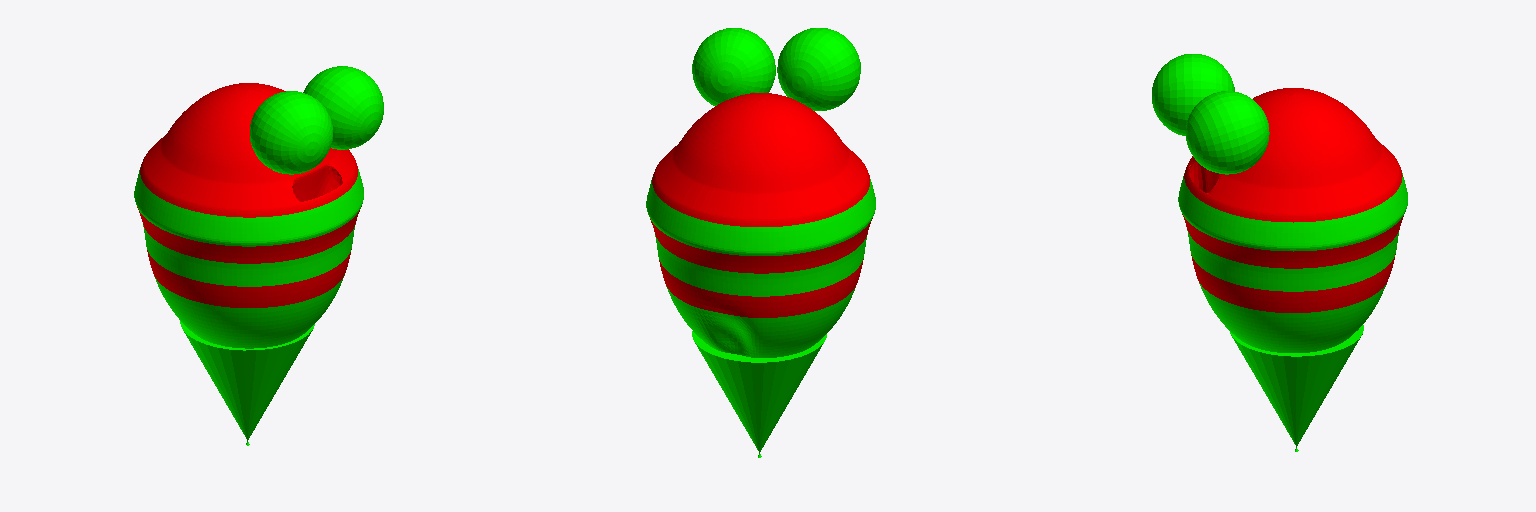
File: musuh.obj
The picture shows the model from 3 angles: view 1: azimuth 30°, elevation 25°; view 2: azimuth 150°, elevation 25°; view 3: azimuth 270°, elevation 25°; orthographic projection.
Visible parts, largest first — view 1: Bola, Silinder_Silinder.001, Bola.002_Bola.001, Bola.001; view 2: Bola, Silinder_Silinder.001, Bola.002_Bola.001, Bola.001; view 3: Bola, Silinder_Silinder.001, Bola.001, Bola.002_Bola.001.
Part boxes in pixels (bbox=[...]): Bola: bbox=[134, 83, 363, 348]; Silinder_Silinder.001: bbox=[180, 321, 314, 445]; Bola.002_Bola.001: bbox=[250, 91, 332, 174]; Bola.001: bbox=[303, 66, 383, 149]; Bola: bbox=[646, 93, 875, 357]; Silinder_Silinder.001: bbox=[692, 331, 826, 457]; Bola.002_Bola.001: bbox=[777, 28, 860, 110]; Bola.001: bbox=[692, 28, 775, 105]; Bola: bbox=[1178, 88, 1407, 352]; Silinder_Silinder.001: bbox=[1230, 325, 1363, 451]; Bola.001: bbox=[1186, 91, 1269, 174]; Bola.002_Bola.001: bbox=[1152, 54, 1234, 135].
Size of the model in its own units: 2.8 by 5.24 by 3.13.